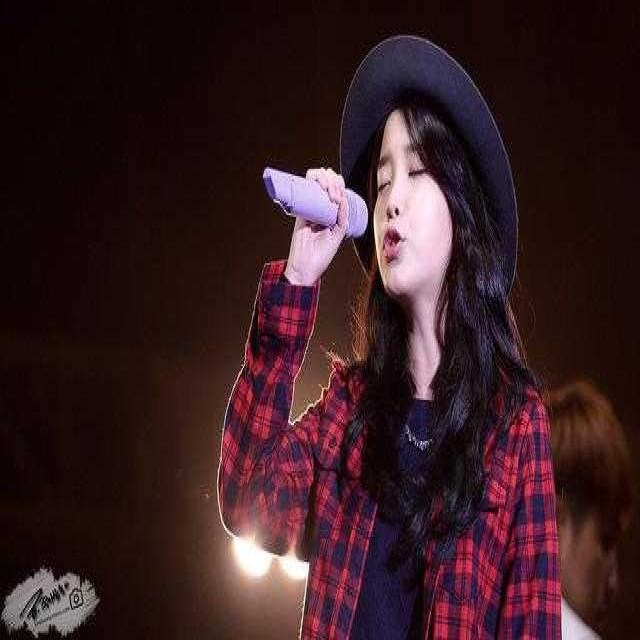microphone: (267, 165, 371, 250)
